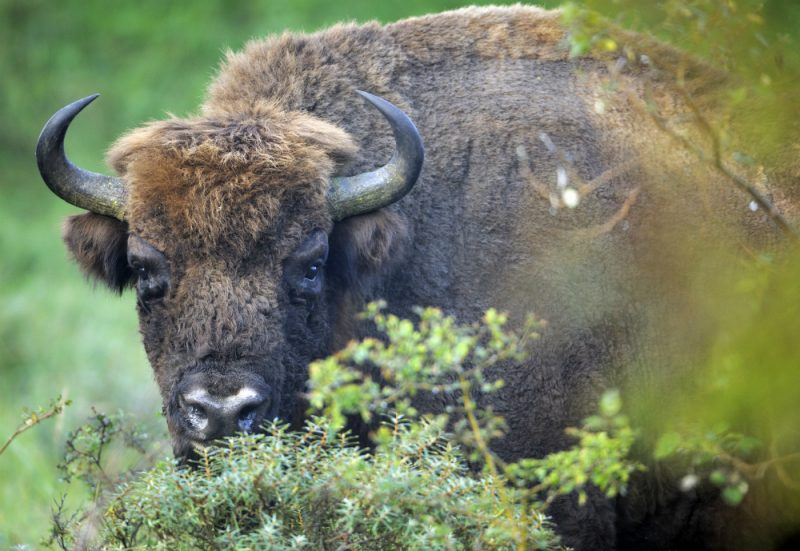zubr: (22, 12, 800, 532)
